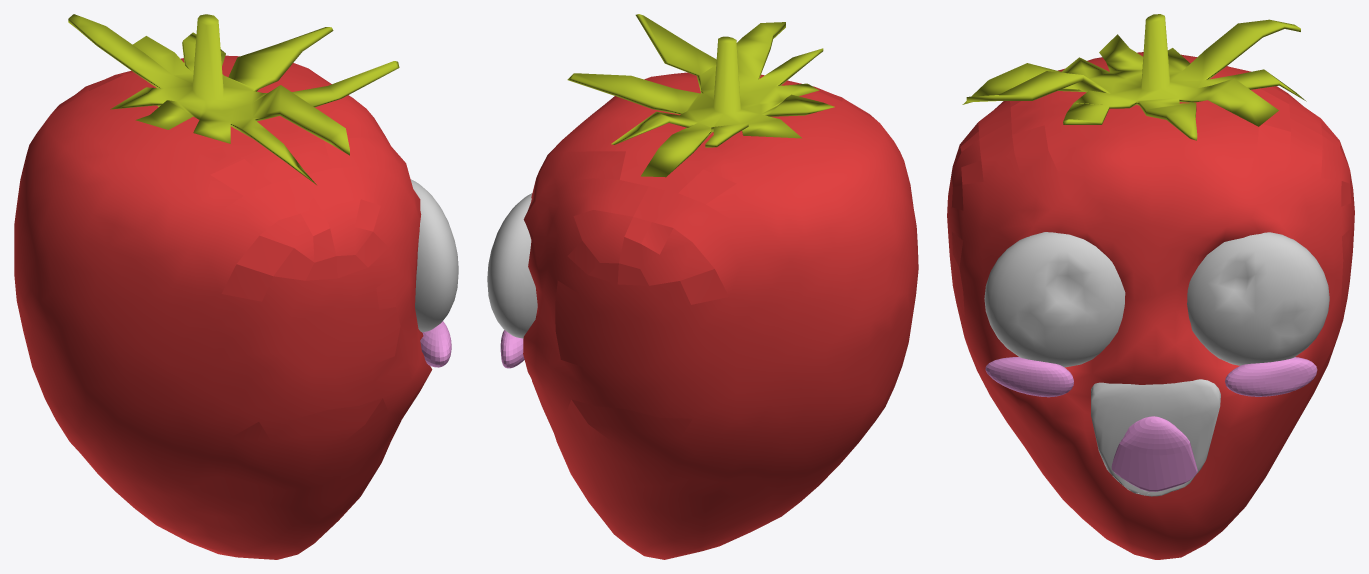
The model's file is morcego.fbx.
The picture shows the model from 3 angles, left to right: view 1: azimuth 30°, elevation 25°; view 2: azimuth 150°, elevation 25°; view 3: azimuth 270°, elevation 25°; orthographic projection. The views are drawn at different scales.
Visible parts, largest first — view 1: Calyx, Sphere, Sphere.003; view 2: Calyx, Sphere.001, Sphere.002; view 3: Calyx, Sphere.001, Sphere, Sphere.004, Sphere.005, Sphere.002, Sphere.003.
Part boxes in pixels (left/top/right/bottom): Calyx: left=14, top=14, right=432, bottom=559; Sphere: left=410, top=179, right=458, bottom=332; Sphere.003: left=420, top=321, right=451, bottom=367; Calyx: left=523, top=14, right=918, bottom=559; Sphere.001: left=487, top=193, right=537, bottom=338; Sphere.002: left=500, top=330, right=524, bottom=368; Calyx: left=947, top=14, right=1354, bottom=559; Sphere.001: left=1187, top=232, right=1329, bottom=365; Sphere: left=984, top=232, right=1125, bottom=367; Sphere.004: left=1091, top=379, right=1220, bottom=496; Sphere.005: left=1111, top=416, right=1197, bottom=491; Sphere.002: left=1225, top=357, right=1317, bottom=396; Sphere.003: left=985, top=357, right=1073, bottom=397.
Size of the model in its own units: 52.08 by 75.22 by 54.79.
